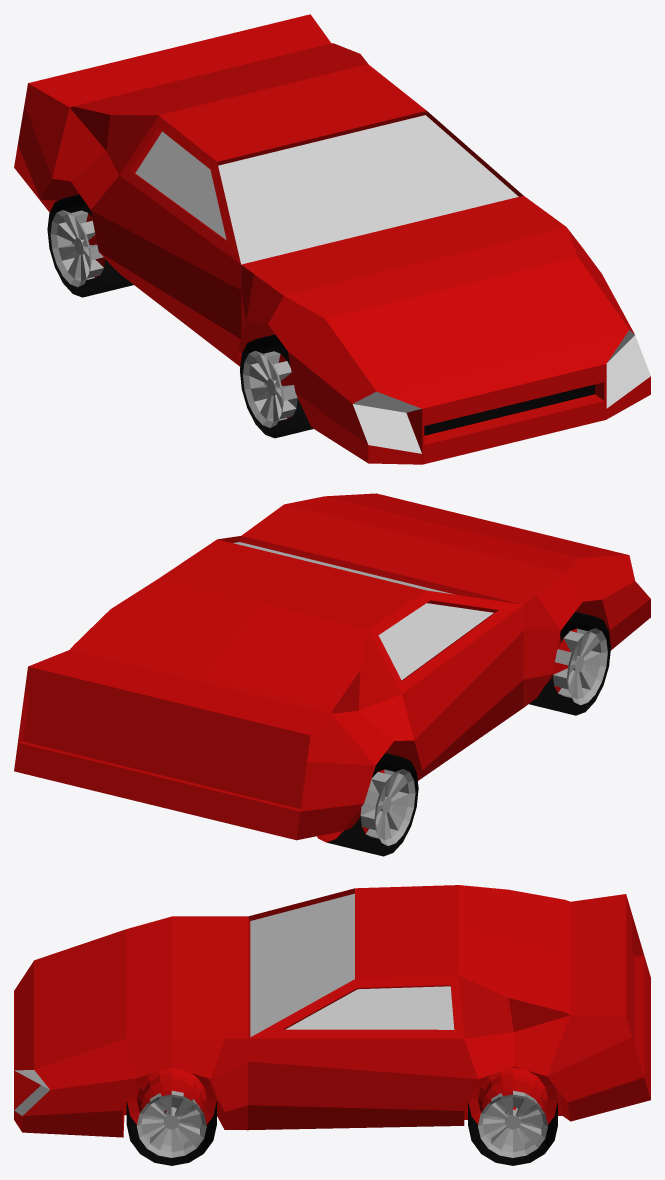
The model's file is Car.obj.
3 renders of one model, top to bottom at view 1: azimuth 30°, elevation 25°; view 2: azimuth 150°, elevation 25°; view 3: azimuth 270°, elevation 25°, orthographic. The views are drawn at different scales.
Visible parts, largest first — view 1: Cube; view 2: Cube; view 3: Cube.
Boxes of the visible parts, box(x1,y1,x2,y2) form: Cube: box(14, 14, 650, 464); Cube: box(14, 493, 650, 856); Cube: box(14, 885, 650, 1165).
Size of the model in its own units: 2 by 1.1 by 3.82.
